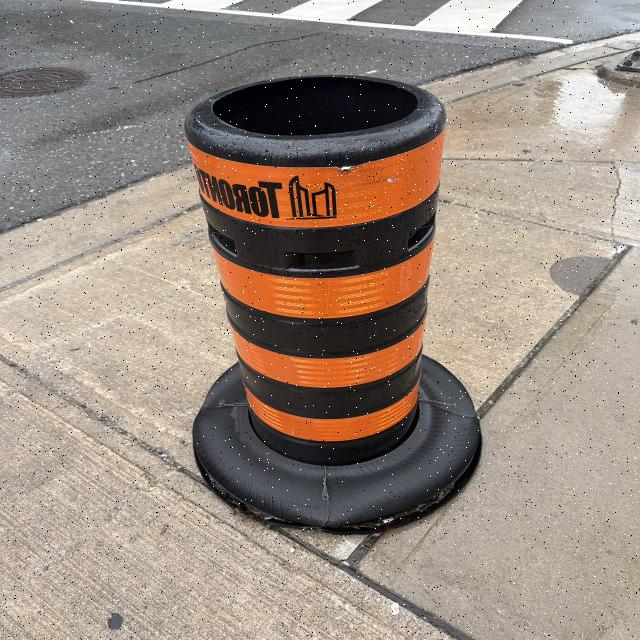Teraffic Barrel: (185, 76, 480, 531)
